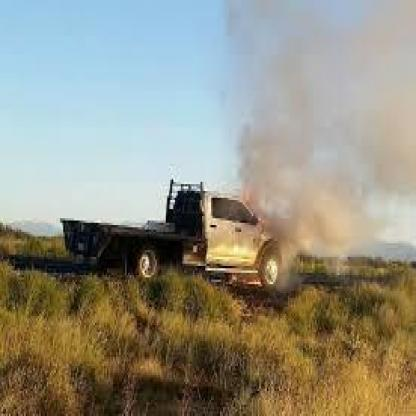smoke: (243, 39, 393, 234)
